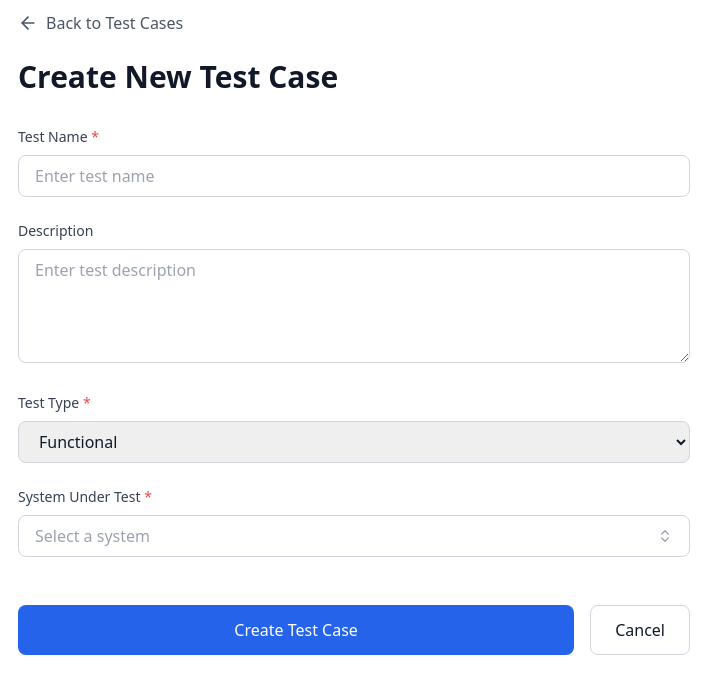
Scenario: TestCaseForm › Validation › should require system under test ID
This screenshot has width=709, height=697.
Type "Test Case" into the field labelled "Test Name *" at (354, 176), box [18, 155, 690, 197]
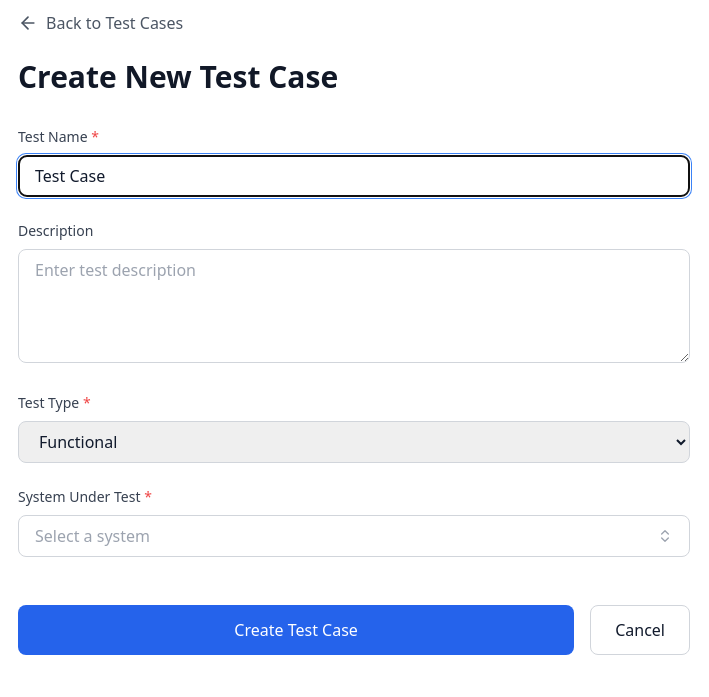
Click the button "Create Test Case" at (296, 630), box [18, 605, 574, 655]
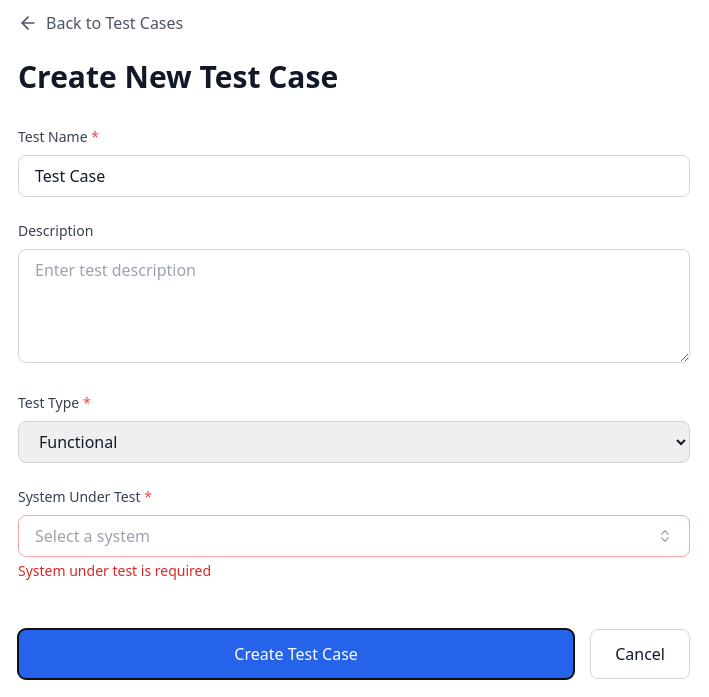
expect the text "System under test is required" is shown: met, box [18, 561, 211, 580]
